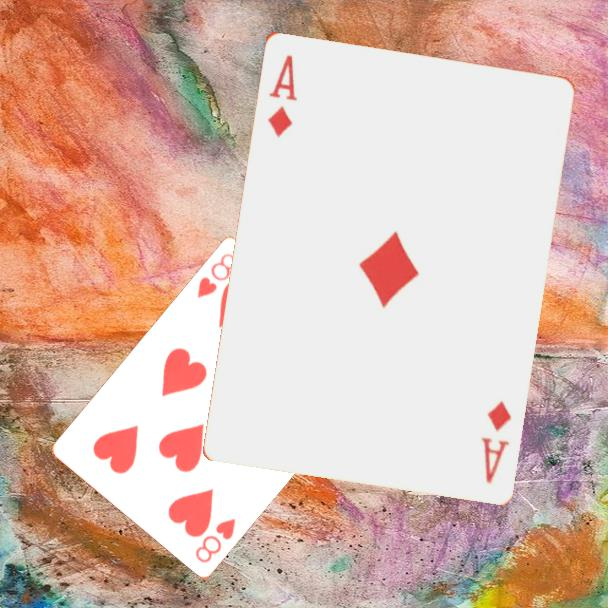d01: (477, 396, 514, 486), (264, 50, 300, 140)
h08: (191, 514, 239, 566), (193, 249, 240, 301)
